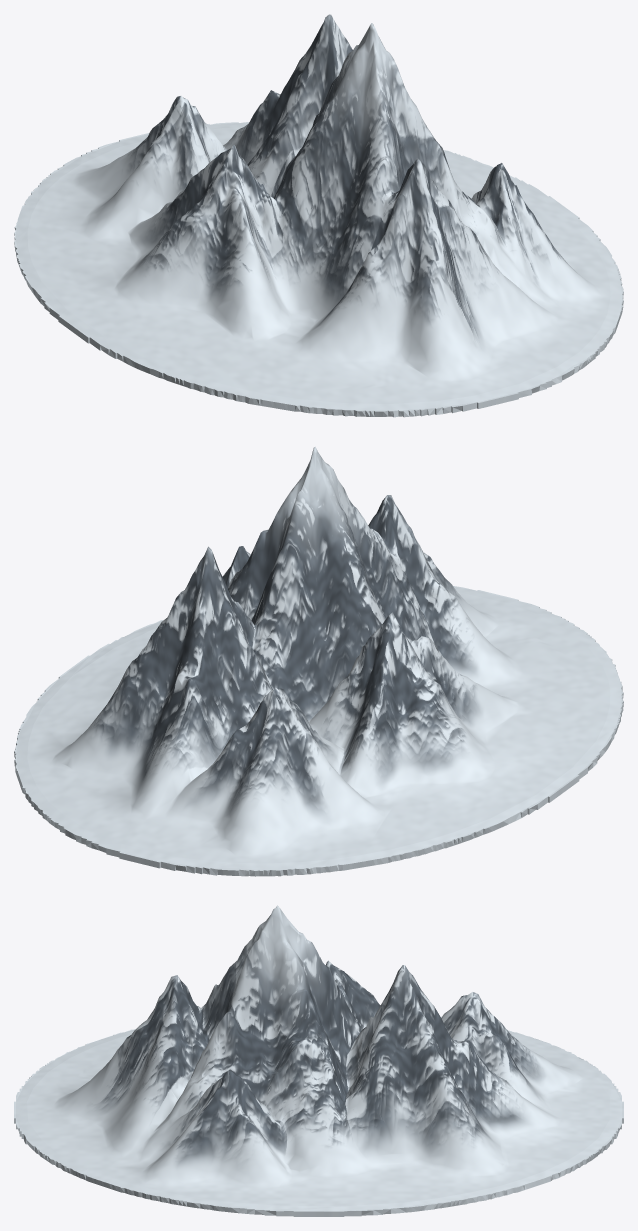
Rendered from IceAgeMountain_Far.obj.
3 views of the same model, one above another, from view 1: azimuth 30°, elevation 25°; view 2: azimuth 150°, elevation 25°; view 3: azimuth 270°, elevation 25° (orthographic). The views are drawn at different scales.
Visible parts, largest first — view 1: IceAgeMountain_Far; view 2: IceAgeMountain_Far; view 3: IceAgeMountain_Far.
Boxes of the visible parts, box(x1,y1,x2,y2) form: IceAgeMountain_Far: box(14, 14, 623, 417); IceAgeMountain_Far: box(14, 446, 623, 876); IceAgeMountain_Far: box(14, 905, 623, 1216).
Size of the model in its own units: 147 by 74.75 by 186.
1 material, 1 textured.
